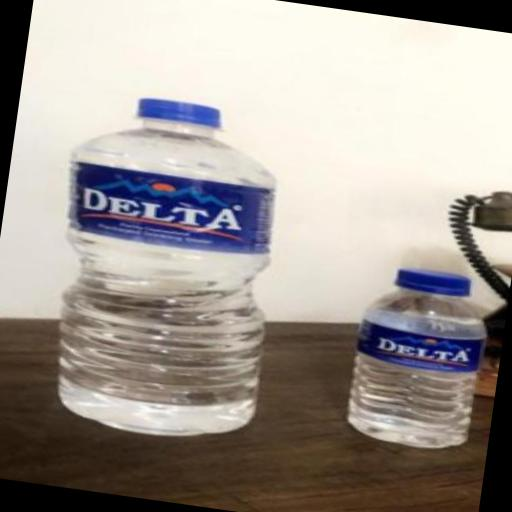Coca: (34, 88, 304, 452), (340, 262, 496, 457)
